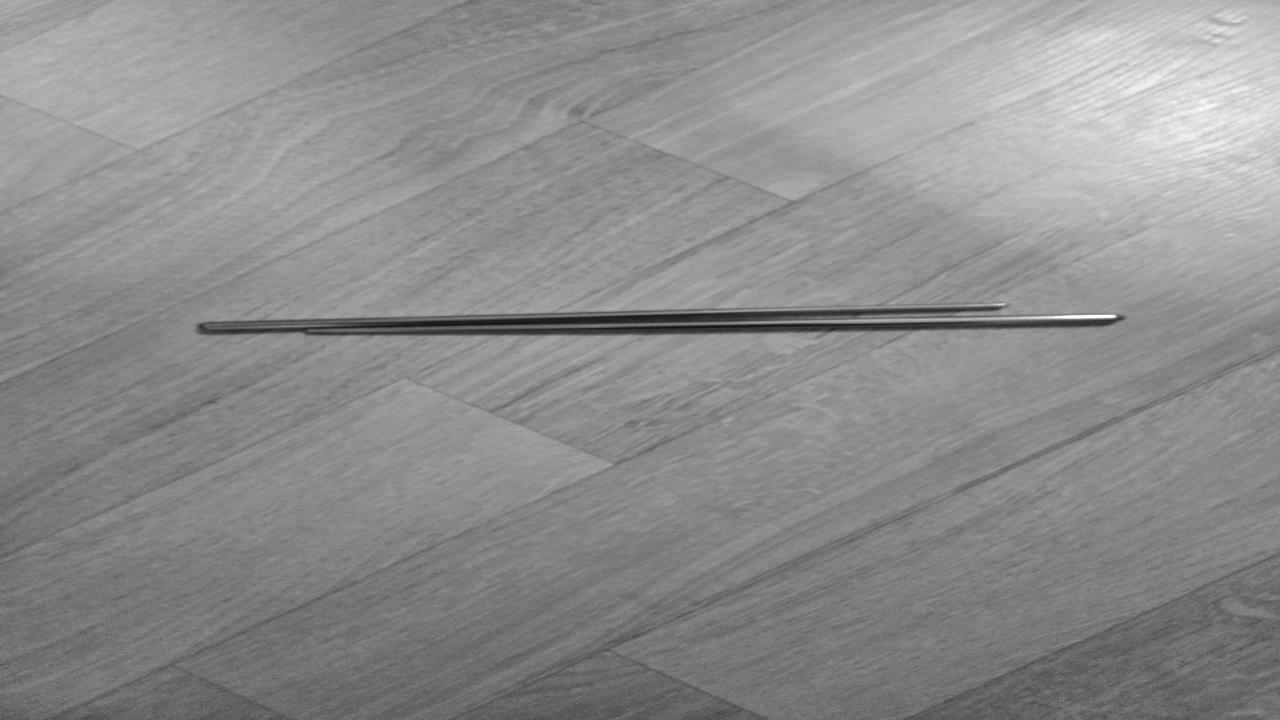chopstick: (191, 295, 1127, 340)
